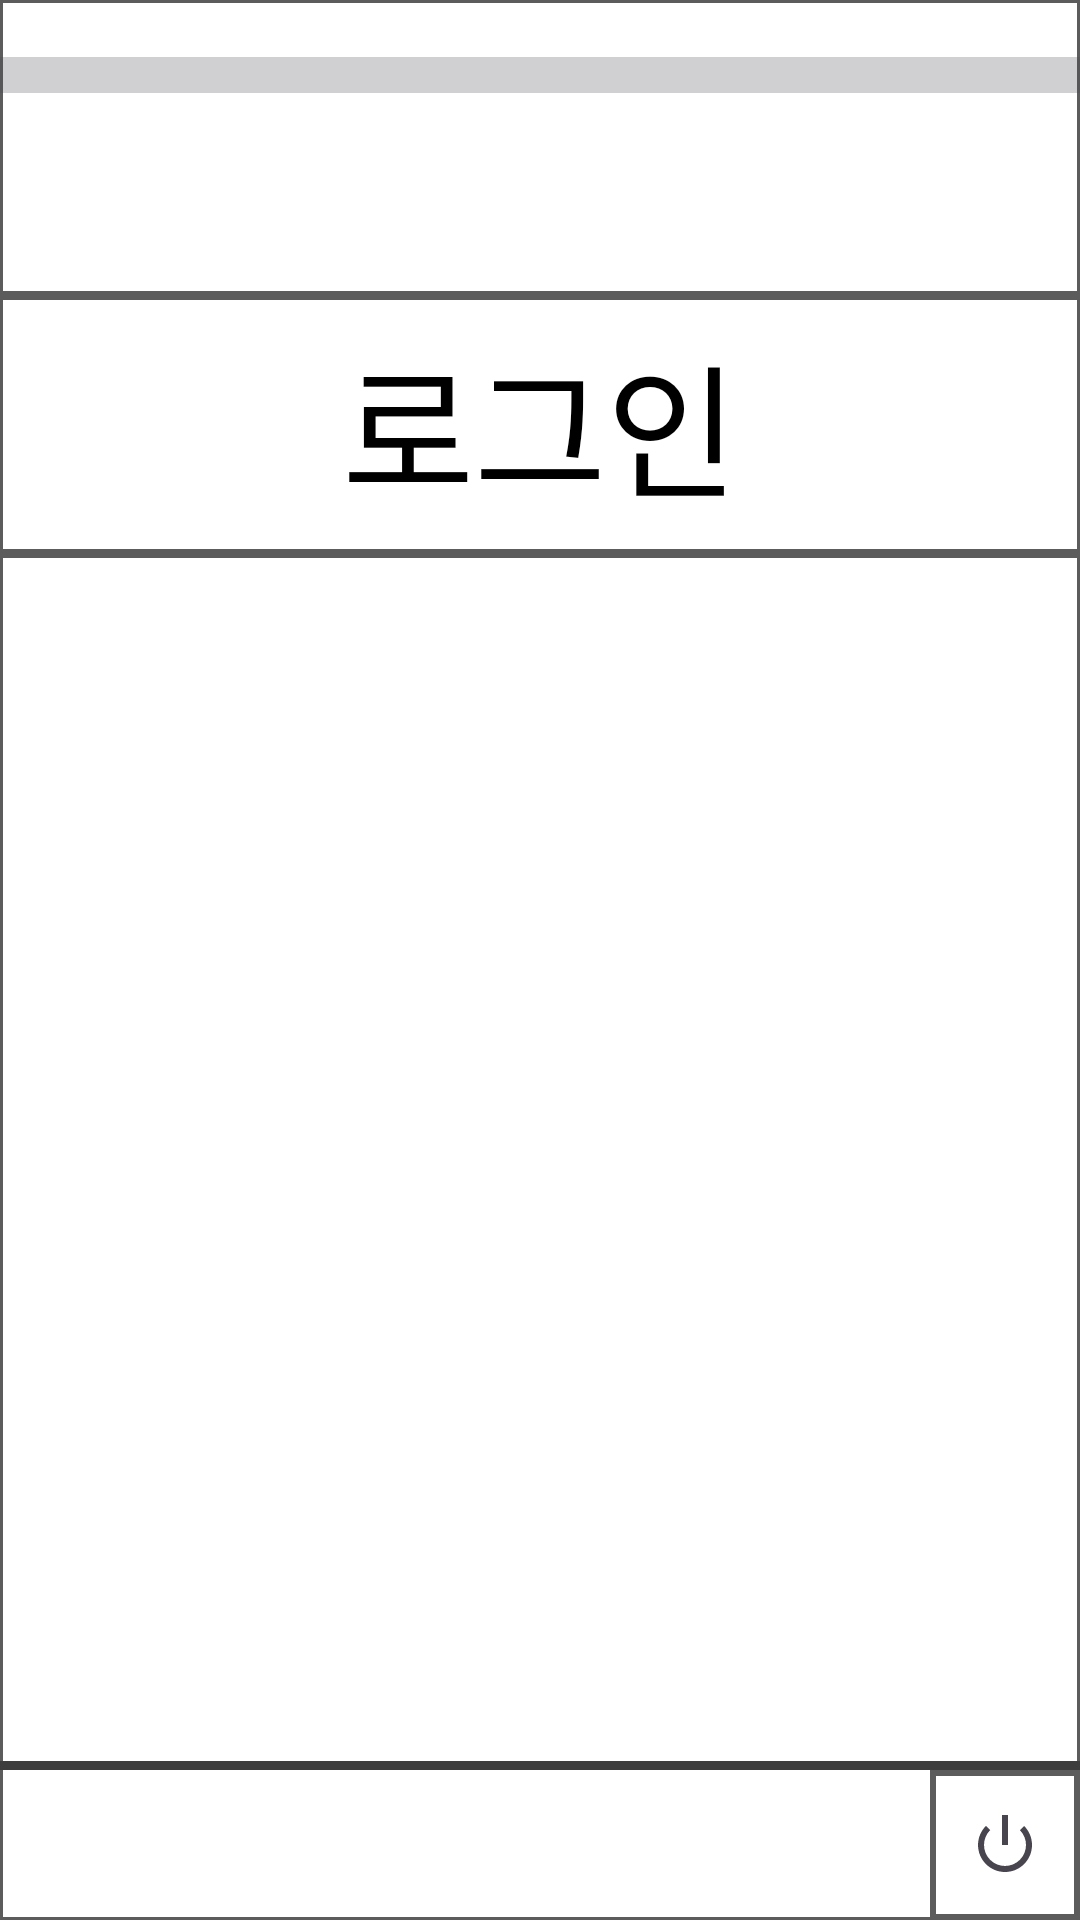

Icon click points for this 1080×1920 phone screenshot, format (x,y):
파워 버튼: (1005,1845)
